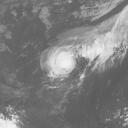cyclone: (39, 45, 77, 78)
